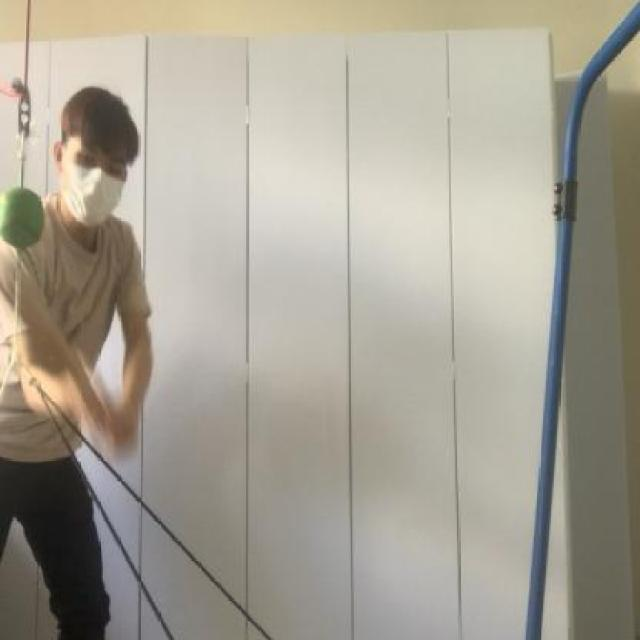baseball: (0, 187, 46, 248)
